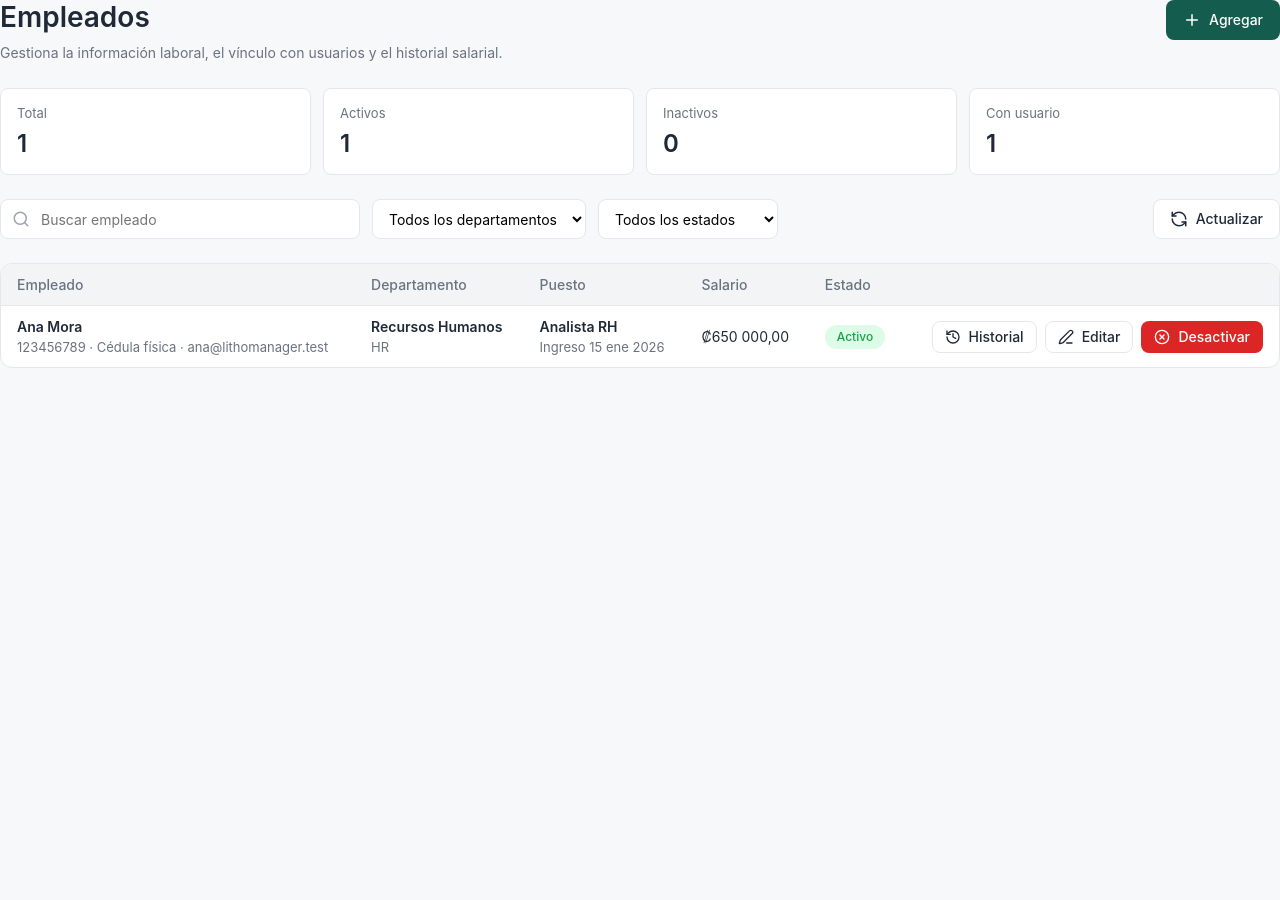
Test: EmployeesPage › opens salary history for an employee
The width and height of the screenshot is (1280, 900).
Expected: the text "Ana Mora" is shown, [17,318,82,335]
Click the button "Historial" at {"x": 984, "y": 337}, box [932,321,1037,353]
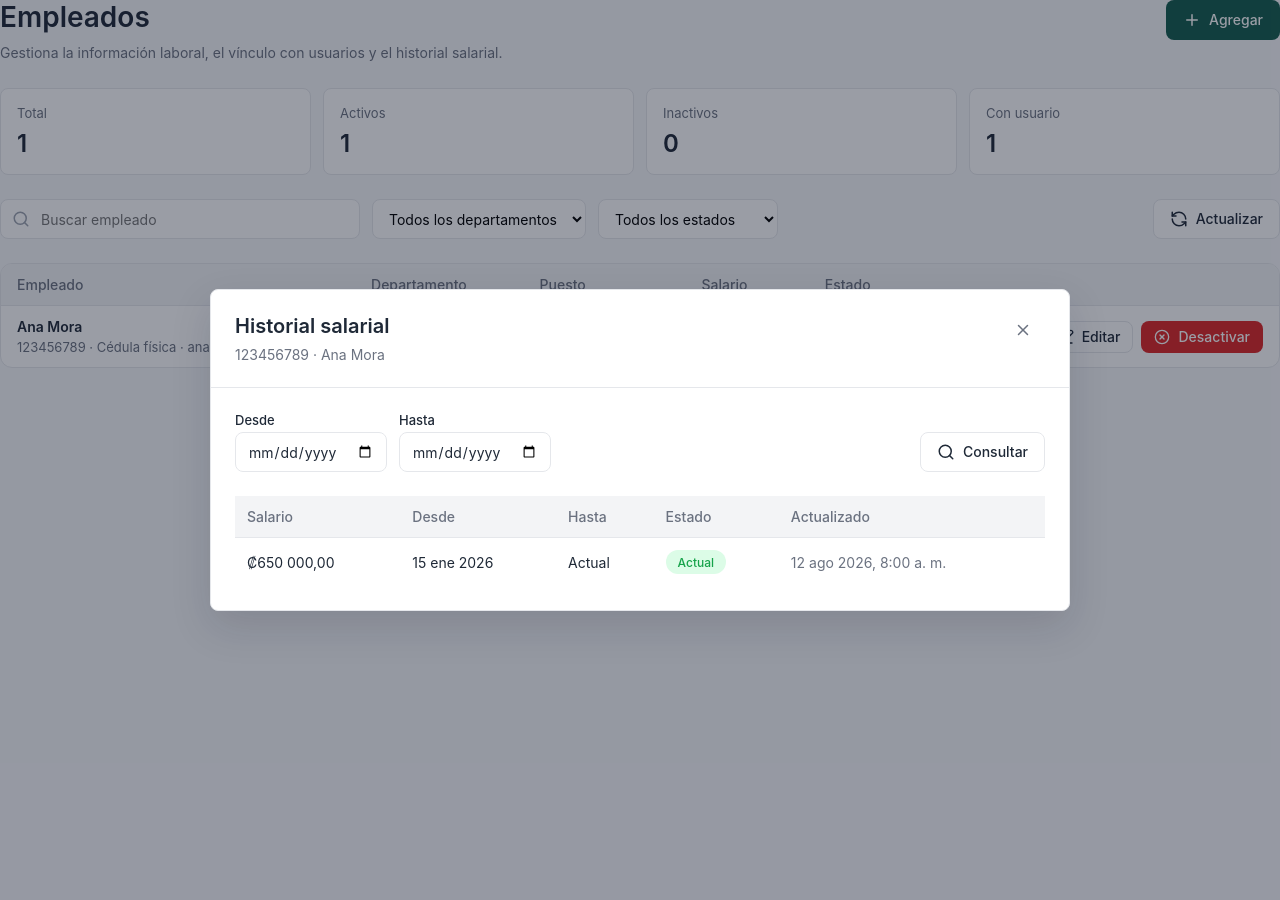
Now the dialog "Historial salarial" is shown, box [210,289,1070,611]
Now the 1st text "Actual" is shown, box [556,538,654,586]
